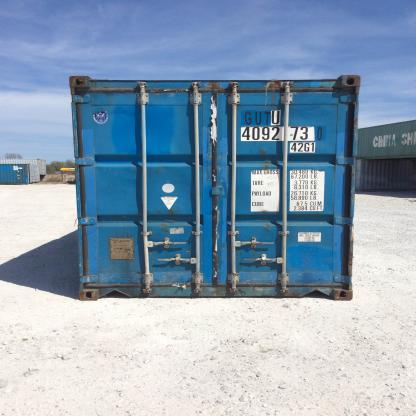Damage: (205, 202, 224, 294), (202, 74, 223, 155)
